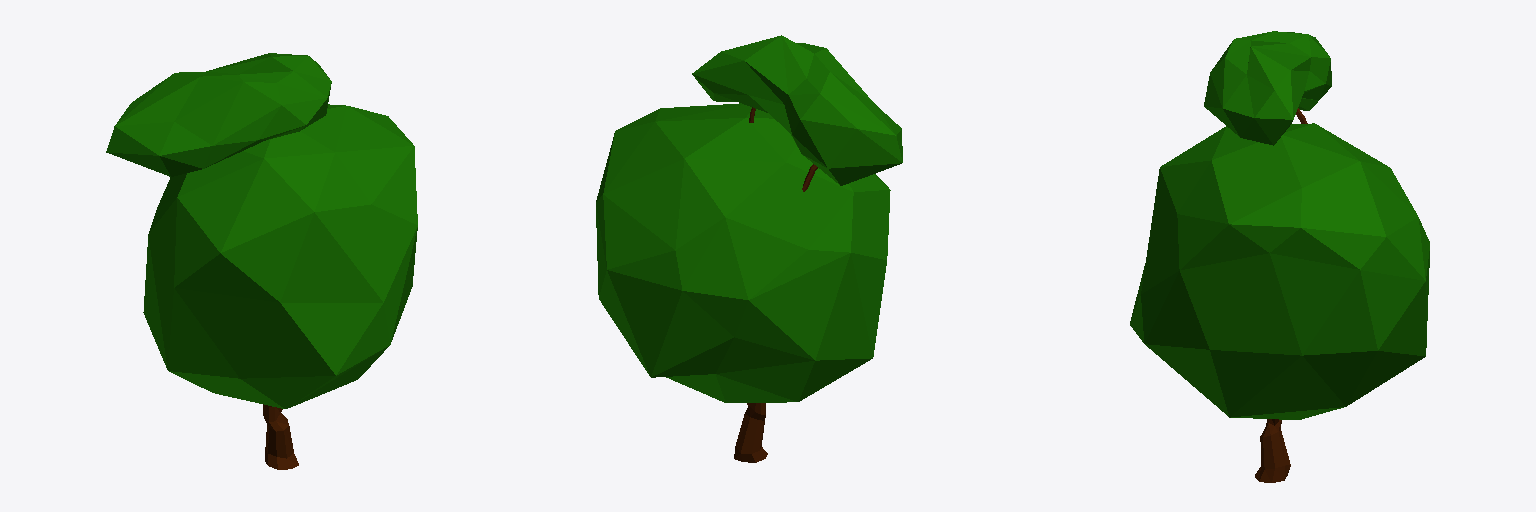
Rendered from bush3.obj.
3 views of the same model, side by side, from view 1: azimuth 30°, elevation 25°; view 2: azimuth 150°, elevation 25°; view 3: azimuth 270°, elevation 25° (orthographic).
Visible parts, largest first — view 1: Bush_3_Cube.002; view 2: Bush_3_Cube.002; view 3: Bush_3_Cube.002.
Part boxes in pixels (bbox=[...]): Bush_3_Cube.002: bbox=[106, 53, 417, 469]; Bush_3_Cube.002: bbox=[596, 35, 902, 462]; Bush_3_Cube.002: bbox=[1130, 31, 1429, 482].
Bounding box in the file's own units: 1.76 × 2.48 × 1.61.